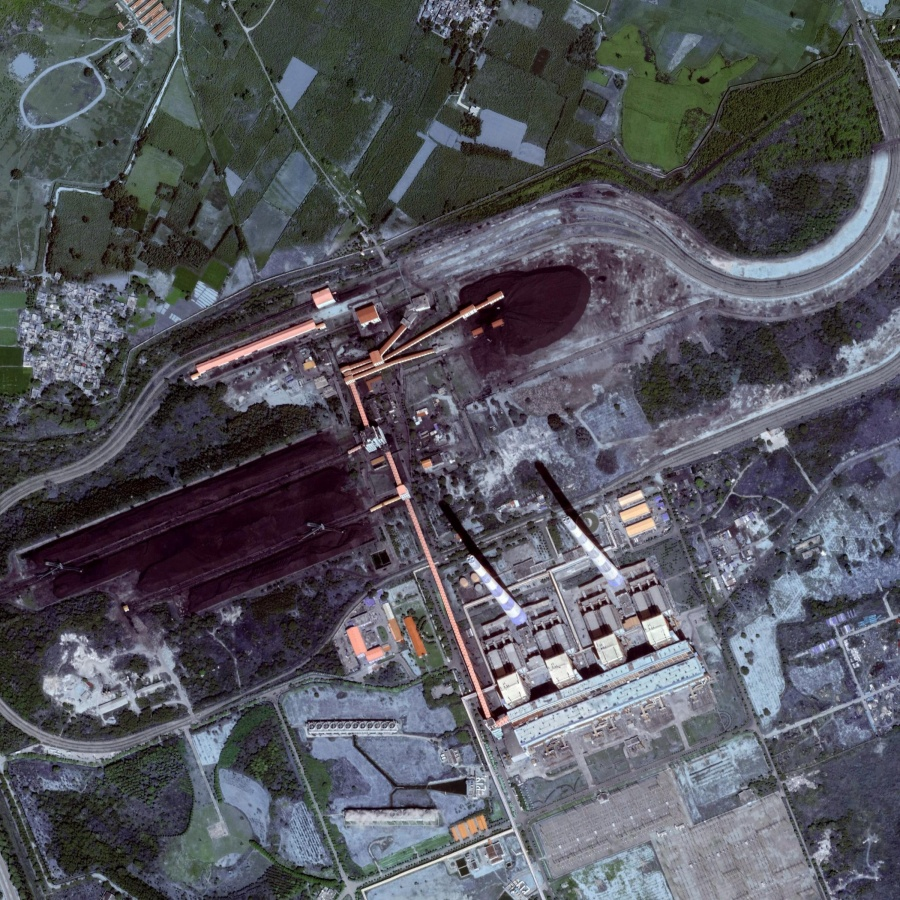PowerPlant: (428, 453, 665, 658)
